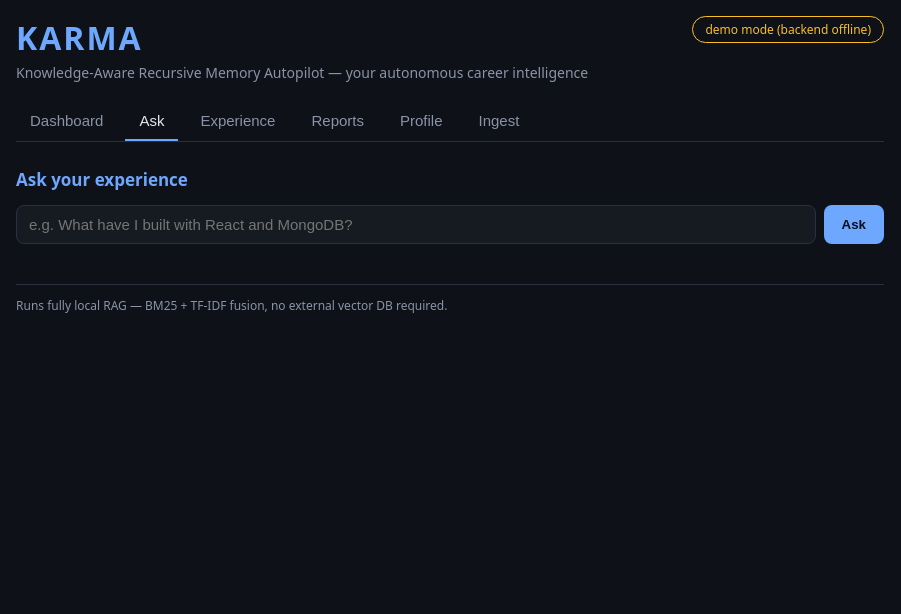
Test: Dashboard (autopilot timeline) › lists runs with DDA phases and stats
Step 1. Click the button with test id "tab-Dashboard" → (67, 122), box [16,102,117,141]
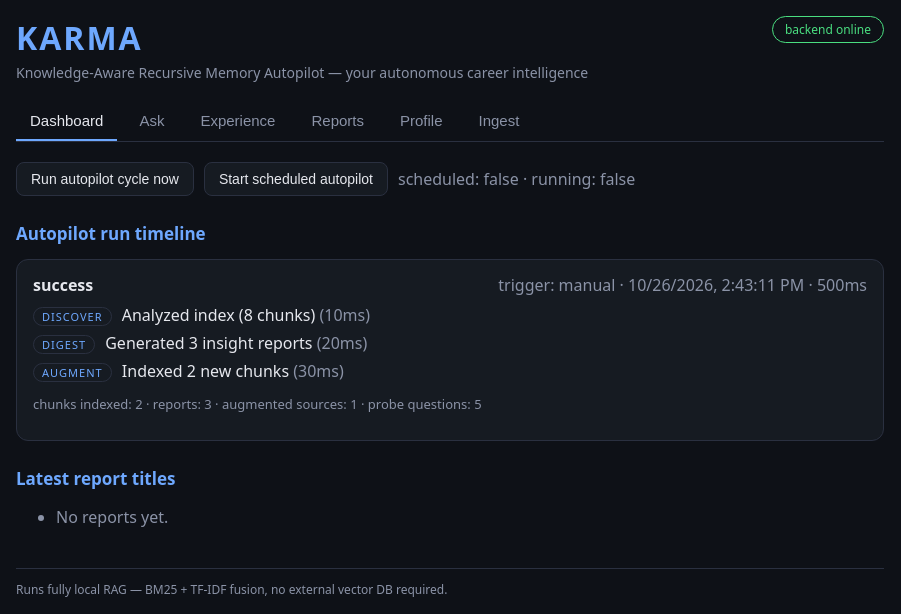
Check: the number of elements with test id "run-card" is 1, box [16,259,884,441]
Check: the text "discover" is shown, box [33,307,112,326]
Check: the text "digest" is shown, box [33,335,95,354]
